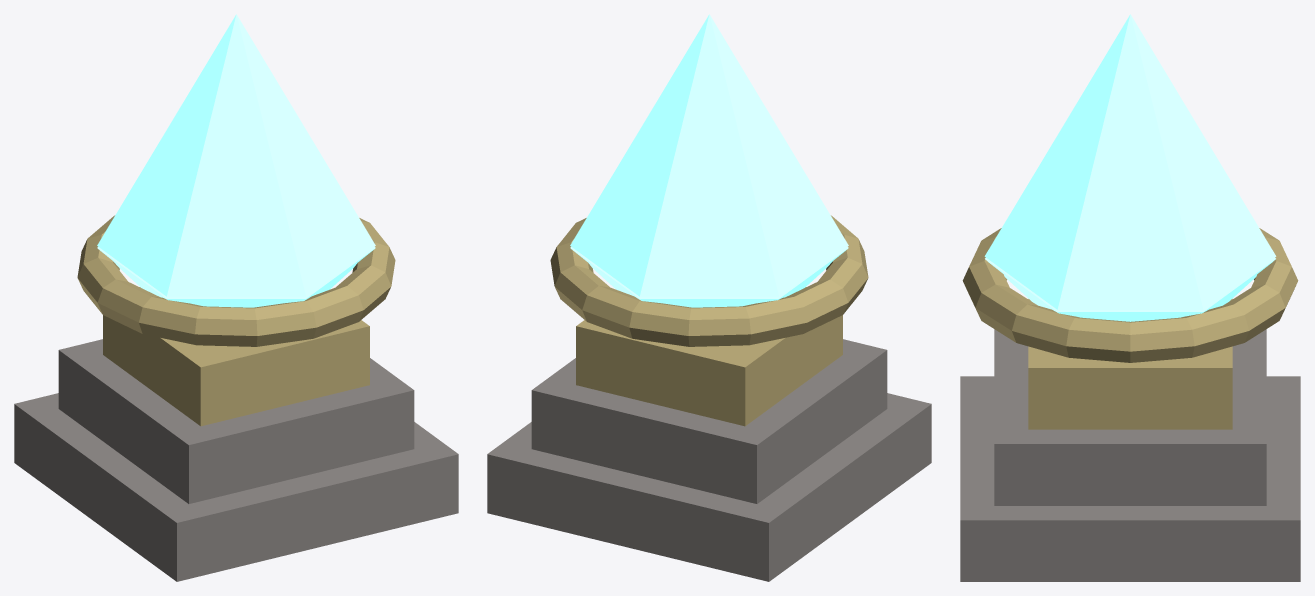
Rendered from artifact.glb.
3 renders of one model, left to right at view 1: azimuth 30°, elevation 25°; view 2: azimuth 150°, elevation 25°; view 3: azimuth 270°, elevation 25°, orthographic. The views are drawn at different scales.
Parts seen in each view (by area): view 1: base; view 2: base; view 3: base.
Part boxes in pixels (left/top/right/bottom): base: left=14, top=14, right=458, bottom=581; base: left=487, top=14, right=931, bottom=581; base: left=960, top=14, right=1300, bottom=581.
Size of the model in its own units: 0.7 by 1.12 by 0.7.
